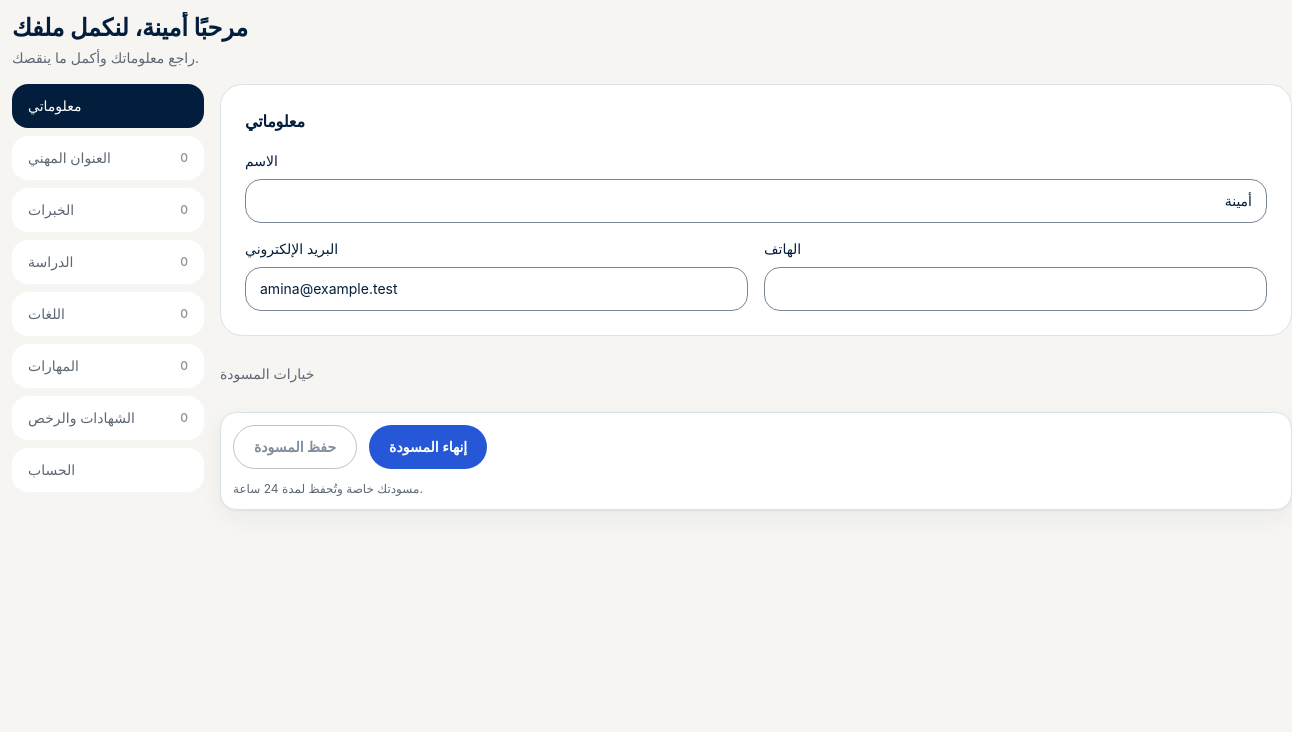
guest professional draft › automatically saves edits without registration
Step 1. Replace the text in the field labelled "الاسم" with "اسم محفوظ تلقائيا" → (756, 201), box [245, 179, 1267, 223]
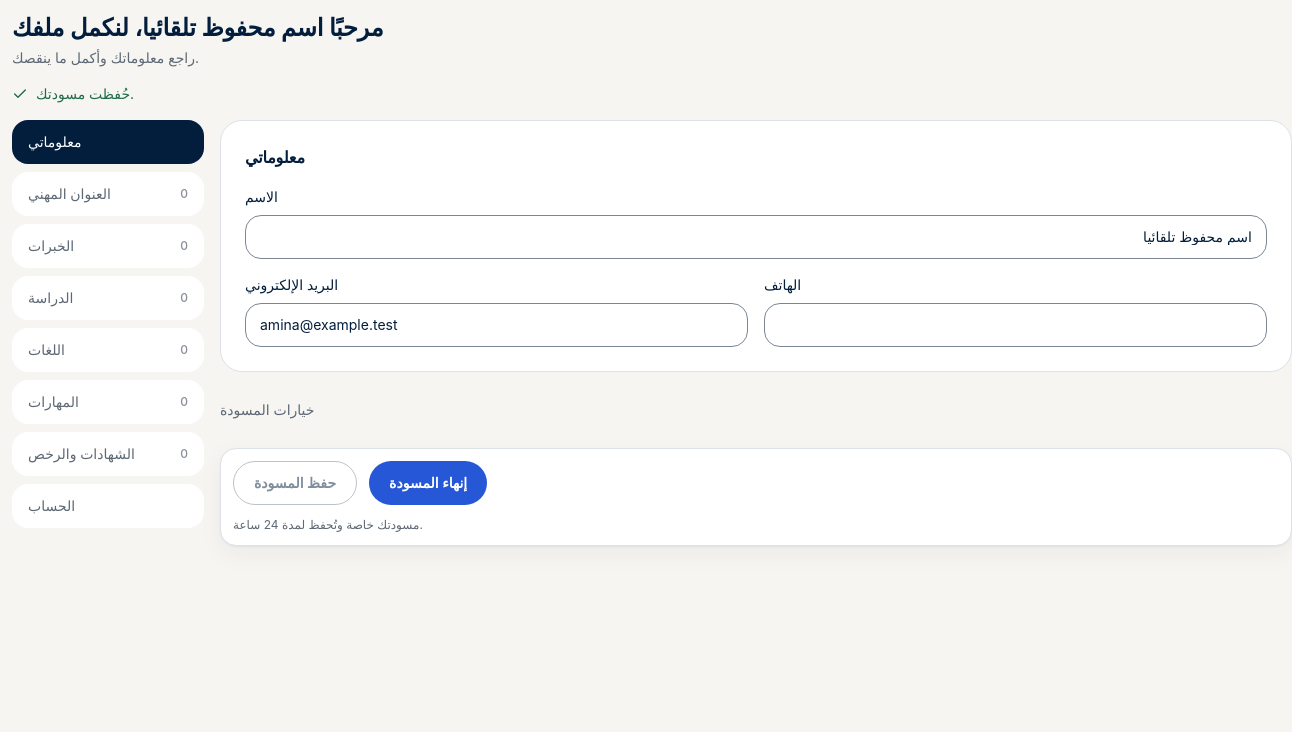
Result: the text "حُفظت مسودتك." is shown at [12, 85, 134, 102]
